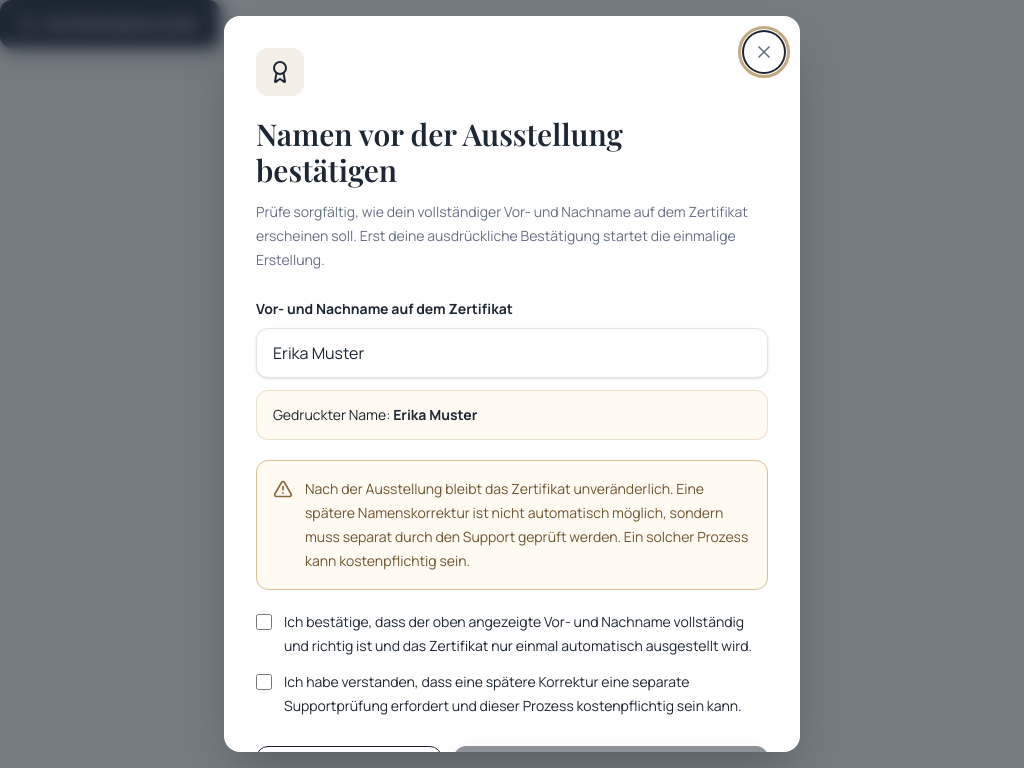
it: Dialog zur einmaligen Zertifikatsausstellung › lässt die Korrektur des Namens vor der Bestätigung zu
The image size is (1024, 768).
Replace the text in the field labelled "Vor- und Nachname auf dem Zertifikat" with "Erika Marie Mustermann" at (512, 353), box [256, 328, 768, 378]
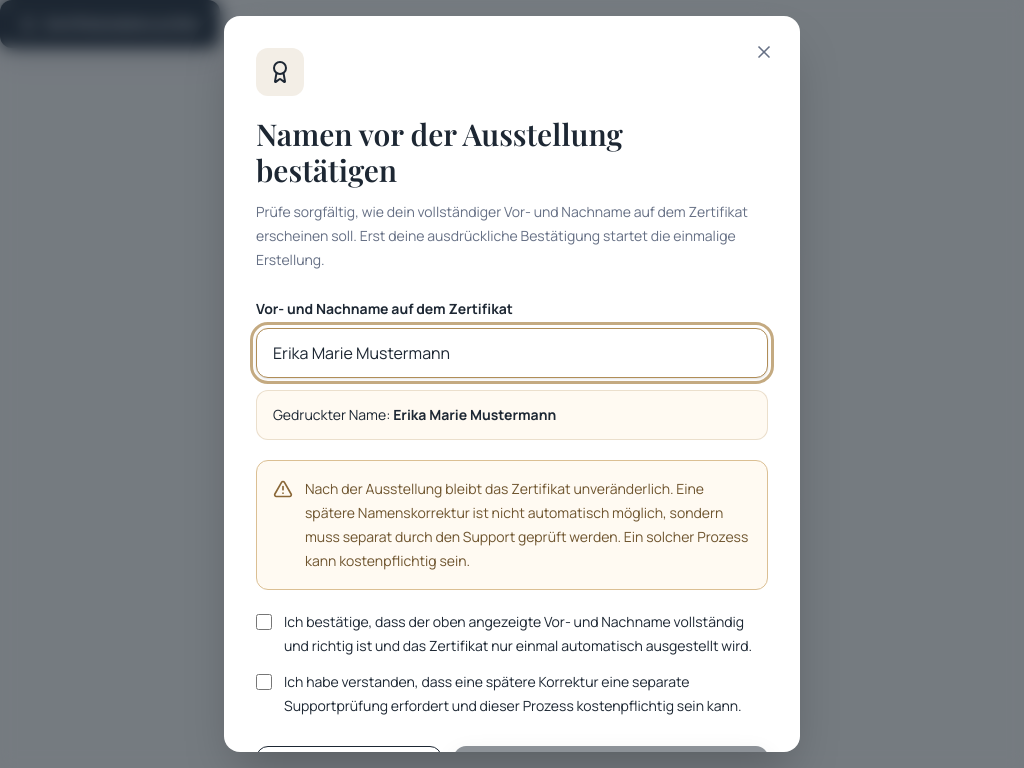
expect the text "Gedruckter Name: Erika Marie Mustermann" is shown: met, box [256, 390, 768, 440]
